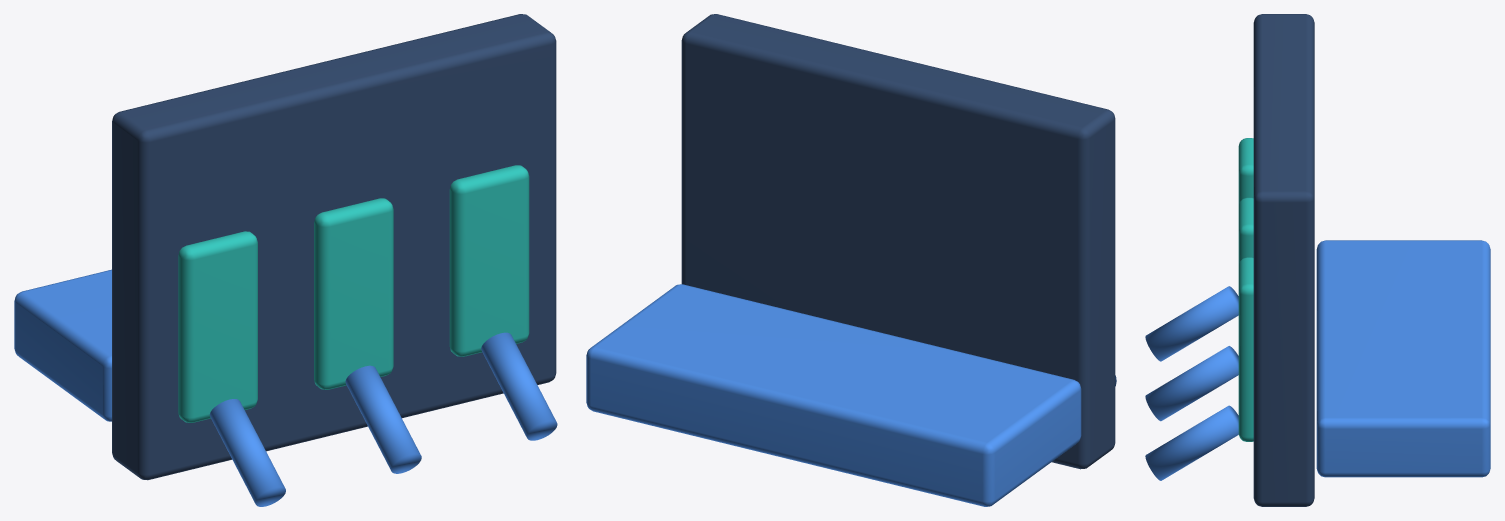
The model's file is hydroelectric-dam-quality.glb.
The picture shows the model from 3 angles, left to right: view 1: azimuth 30°, elevation 25°; view 2: azimuth 150°, elevation 25°; view 3: azimuth 270°, elevation 25°; orthographic projection. The views are drawn at different scales.
Visible parts, largest first — view 1: Dam wall; view 2: Dam wall; view 3: Dam wall.
Part boxes in pixels (x1,y1,x2,y2): Dam wall: [14, 14, 557, 506]; Dam wall: [586, 14, 1116, 506]; Dam wall: [1145, 14, 1490, 506].
Size of the model in its own units: 2 by 1.61 by 1.59.
